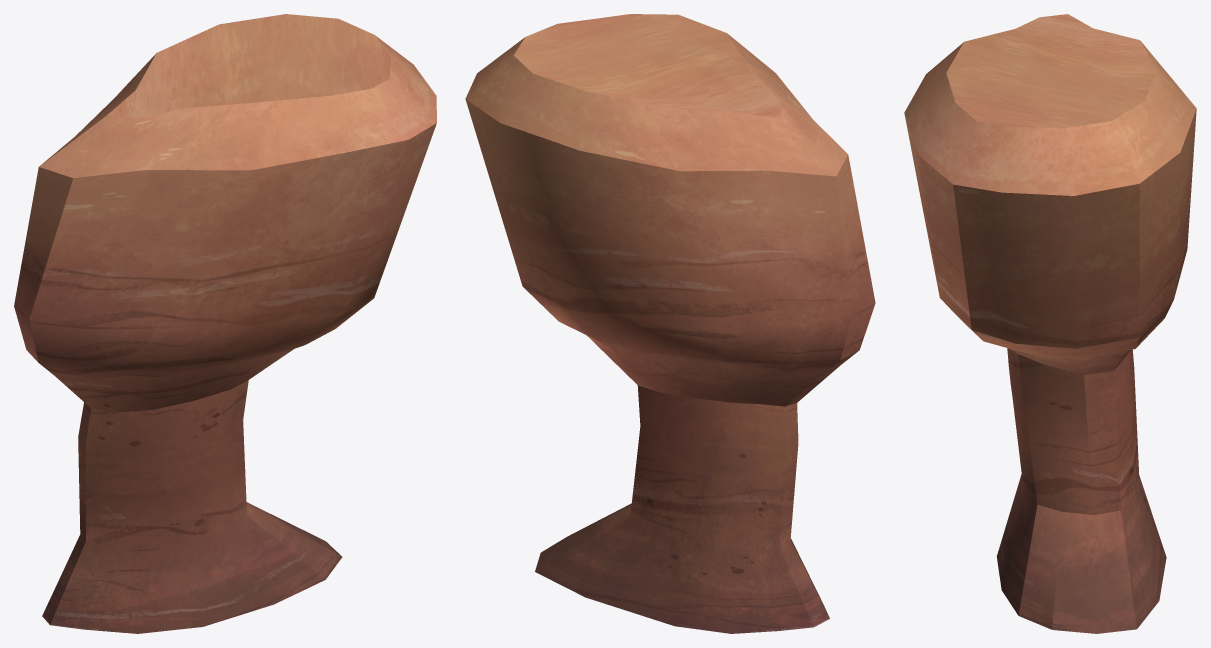
File: tower_1.fbx
3 renders of one model, left to right at view 1: azimuth 30°, elevation 25°; view 2: azimuth 150°, elevation 25°; view 3: azimuth 270°, elevation 25°, orthographic. The views are drawn at different scales.
Parts seen in each view (by area): view 1: tower 1; view 2: tower 1; view 3: tower 1.
Part boxes in pixels (<box>): tower 1: <box>14,14,436,633</box>; tower 1: <box>465,14,875,633</box>; tower 1: <box>904,14,1196,633</box>.
Bounding box in the file's own units: 2202 × 2793 × 1374.
